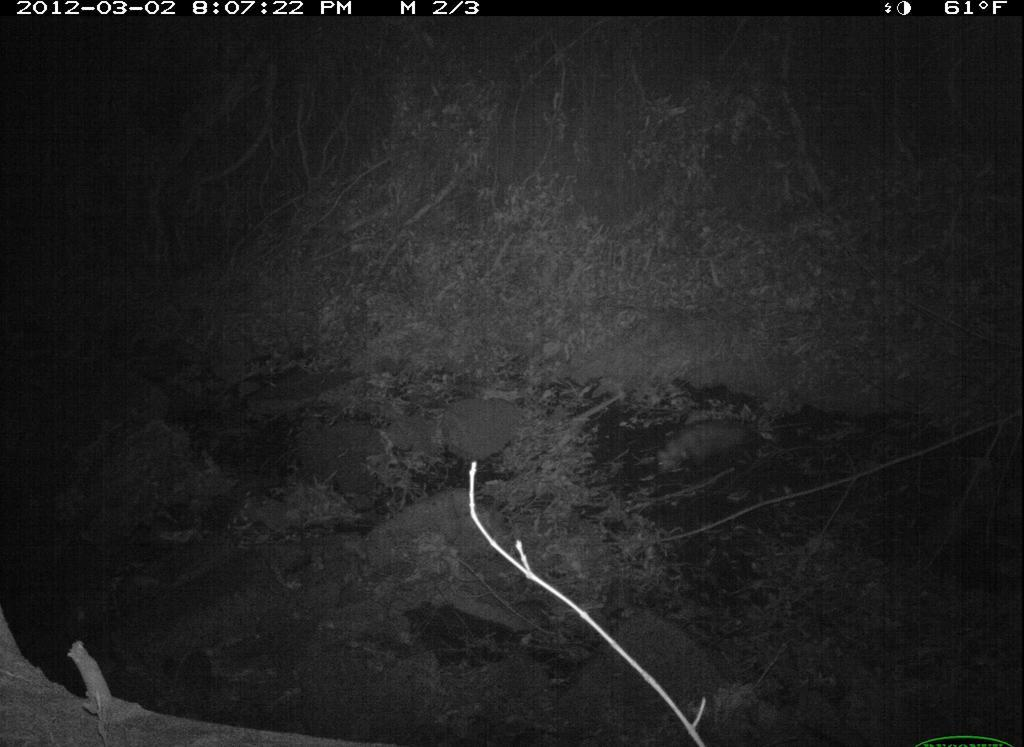opossum: (655, 408, 806, 478)
